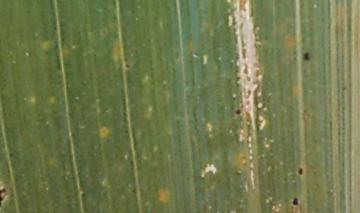tarspot: (1, 187, 7, 208), (290, 196, 300, 207), (302, 51, 310, 62), (234, 108, 242, 116), (297, 167, 304, 176), (124, 63, 131, 70)
